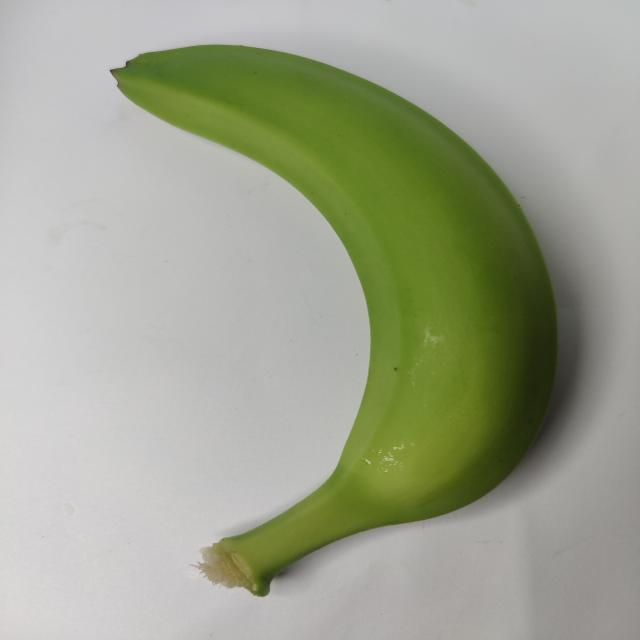raw: (94, 36, 584, 604)
